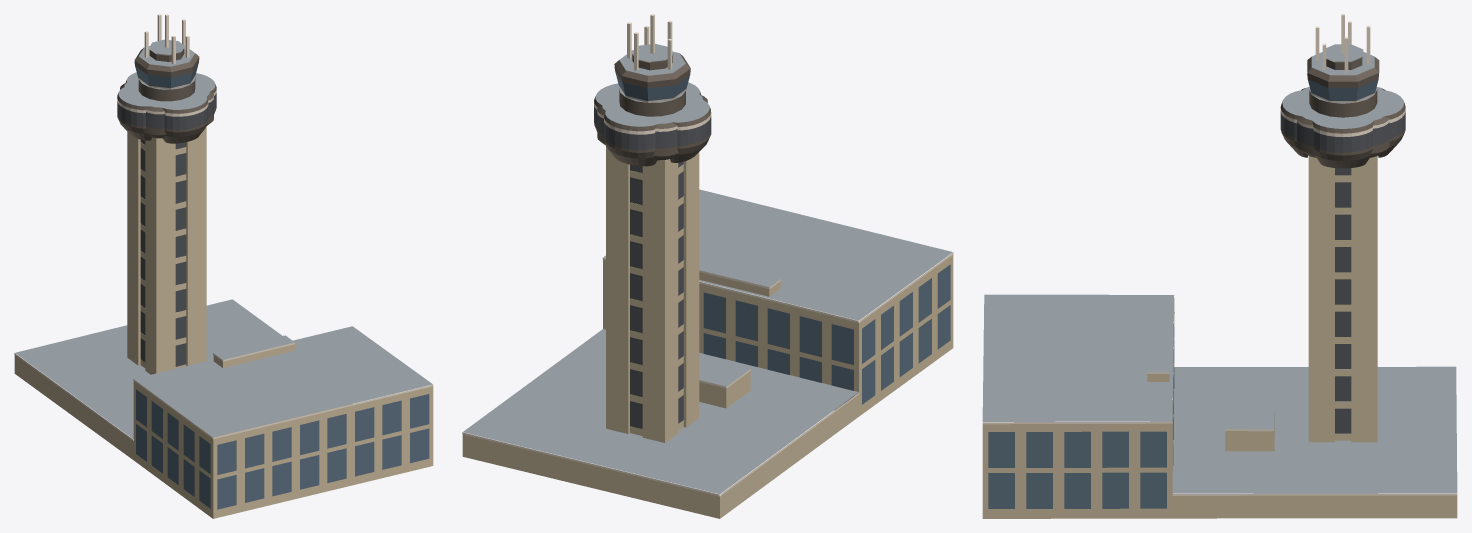
File: dal-dfw-control-tower.glb
3 views of the same model, side by side, from view 1: azimuth 30°, elevation 25°; view 2: azimuth 150°, elevation 25°; view 3: azimuth 270°, elevation 25° (orthographic). The views are drawn at different scales.
Visible parts, largest first — view 1: DFW Airport Center Tower; view 2: DFW Airport Center Tower; view 3: DFW Airport Center Tower.
Boxes of the visible parts, <box> form: DFW Airport Center Tower: <box>14,14,433,518</box>; DFW Airport Center Tower: <box>462,14,953,518</box>; DFW Airport Center Tower: <box>982,14,1457,518</box>.
Size of the model in its own units: 55.1 by 88 by 86.7.
